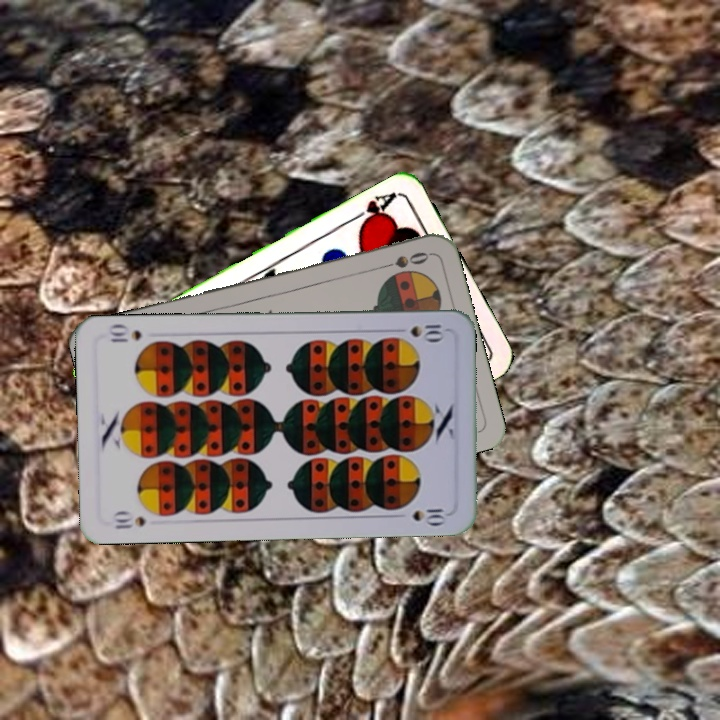HA: (346, 187, 400, 231)
S10: (109, 508, 148, 532), (406, 321, 449, 342)
SO: (374, 247, 432, 272)
